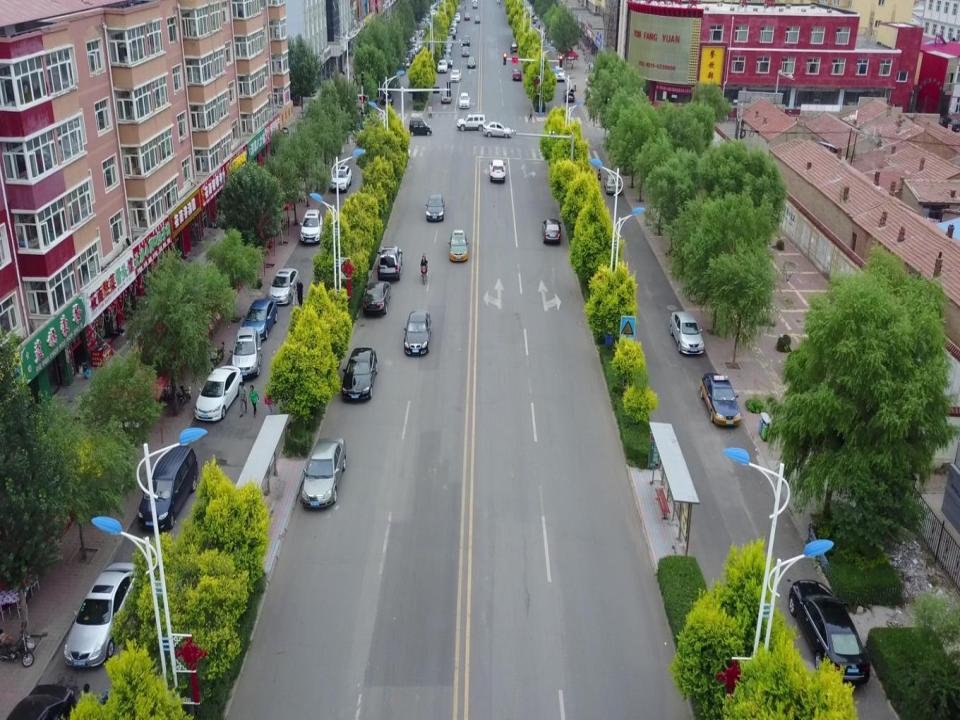car: (788, 579, 870, 689), (62, 561, 142, 672), (300, 436, 347, 510), (193, 364, 244, 424), (3, 684, 76, 720), (699, 372, 742, 427), (340, 346, 378, 403), (669, 310, 705, 356), (242, 298, 279, 342), (403, 308, 431, 358), (268, 267, 300, 306), (362, 280, 391, 316), (377, 245, 402, 282), (299, 208, 324, 245), (448, 228, 470, 262), (330, 163, 352, 194), (483, 120, 514, 140), (456, 112, 486, 132), (541, 217, 562, 245), (425, 194, 445, 223), (488, 159, 507, 184), (408, 118, 431, 137), (604, 173, 621, 193), (440, 86, 452, 105), (458, 92, 470, 109), (554, 65, 566, 81), (562, 88, 574, 103), (450, 69, 461, 83), (511, 68, 522, 81), (466, 56, 476, 70), (437, 58, 447, 72), (510, 41, 518, 54), (462, 46, 470, 58), (402, 57, 410, 69), (462, 36, 470, 46), (474, 15, 481, 24), (464, 11, 470, 20), (472, 2, 477, 9)
van: (136, 443, 199, 535)
